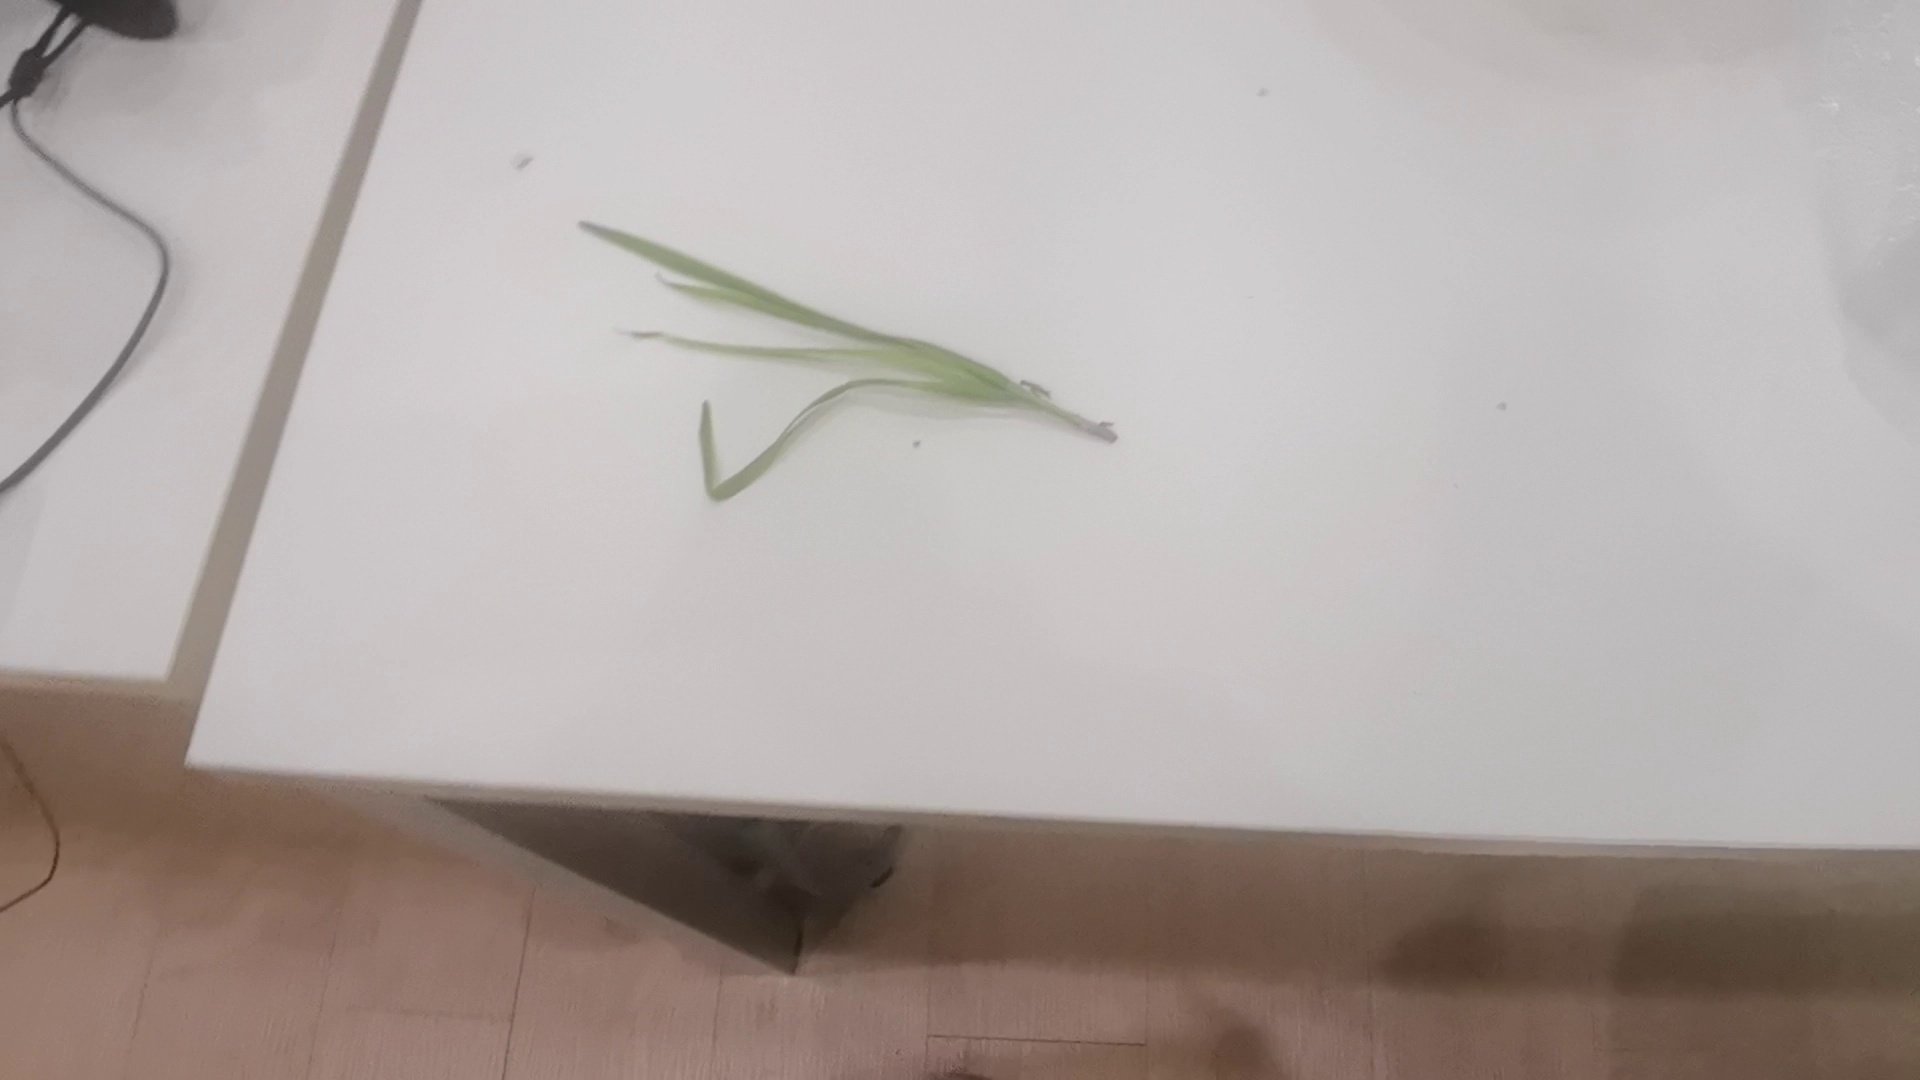chives: (576, 219, 1120, 508)
